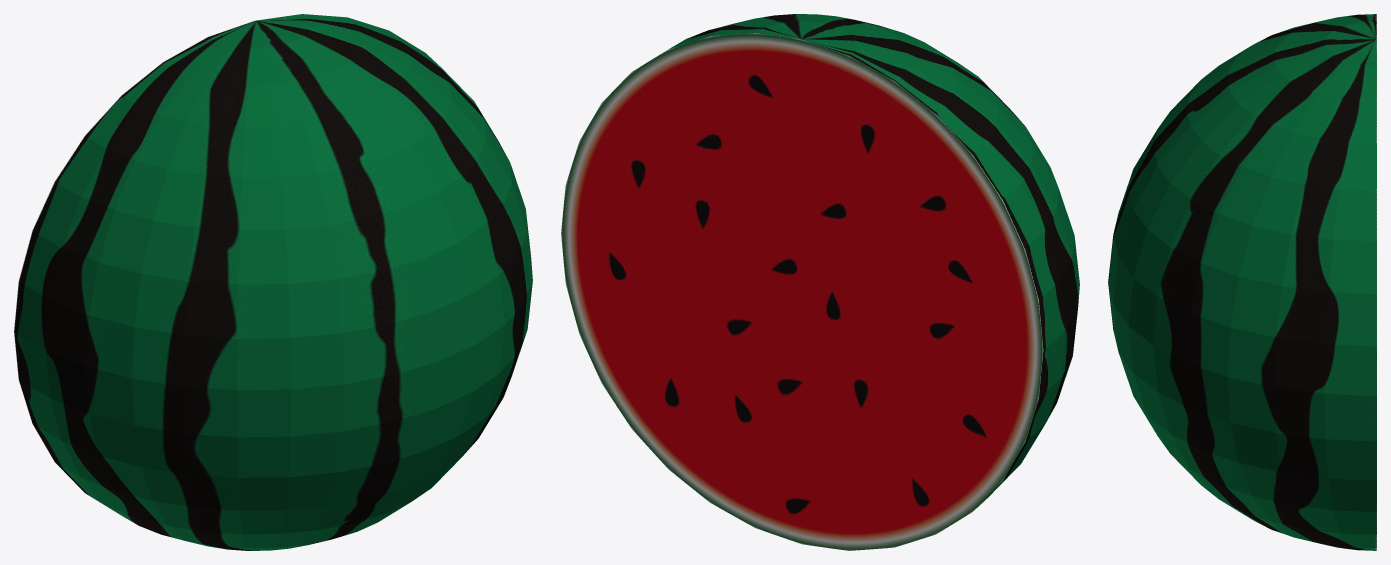
Rendered from harfwatermelon.fbx.
3 renders of one model, left to right at view 1: azimuth 30°, elevation 25°; view 2: azimuth 150°, elevation 25°; view 3: azimuth 270°, elevation 25°, orthographic. The views are drawn at different scales.
Parts seen in each view (by area): view 1: Sphere.001; view 2: Sphere.001; view 3: Sphere.001.
Part boxes in pixels (x1,y1,x2,y2): Sphere.001: (14,14,532,550); Sphere.001: (561,14,1079,550); Sphere.001: (1108,14,1376,550).
Size of the model in its own units: 200 by 200 by 100.
